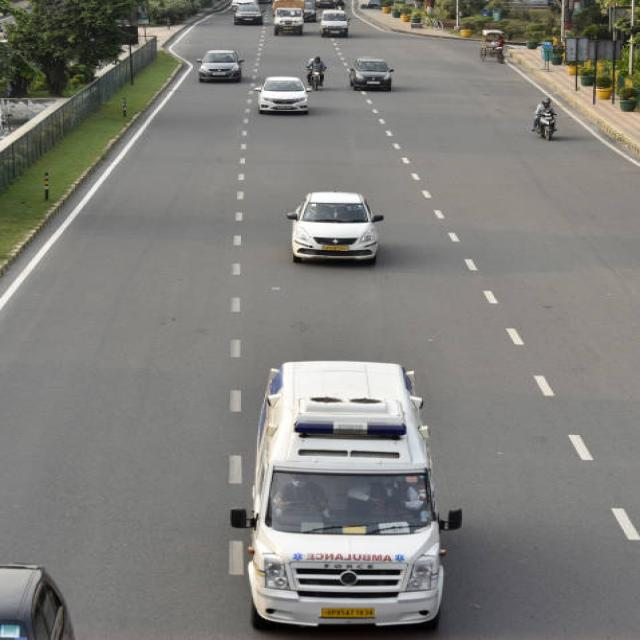ambulance: (245, 358, 458, 636), (279, 375, 413, 483), (285, 536, 411, 592)
